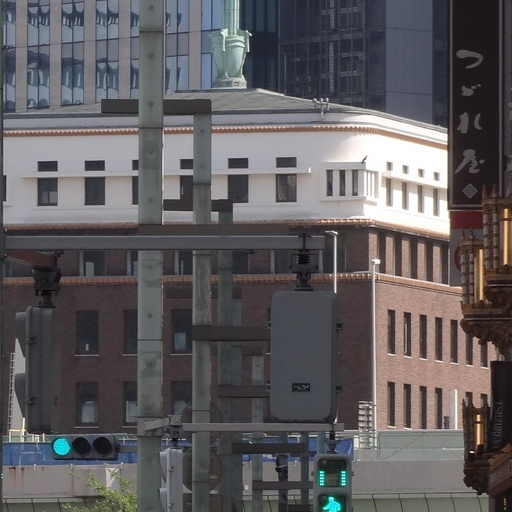Pedestrian_Signal_Blue: (309, 451, 353, 508)
Traffic_Signal_Blue: (44, 425, 137, 466)
